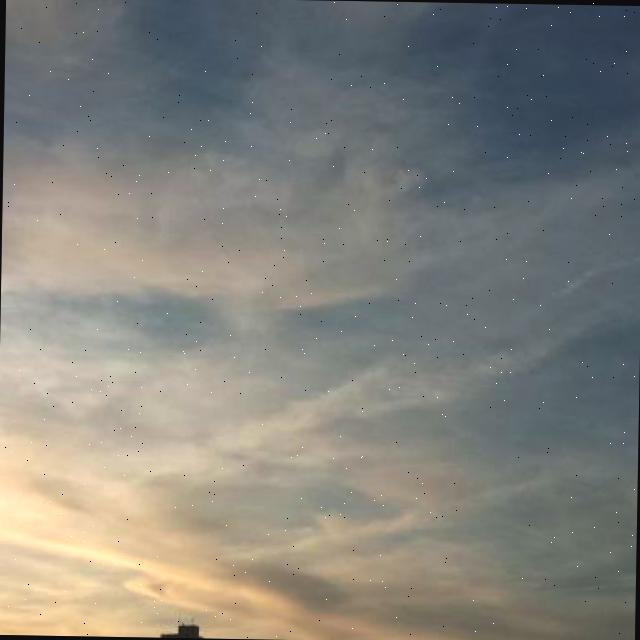Ct: (1, 30, 640, 488)
